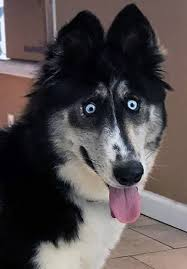Siberian Husky: (12, 9, 177, 264)
